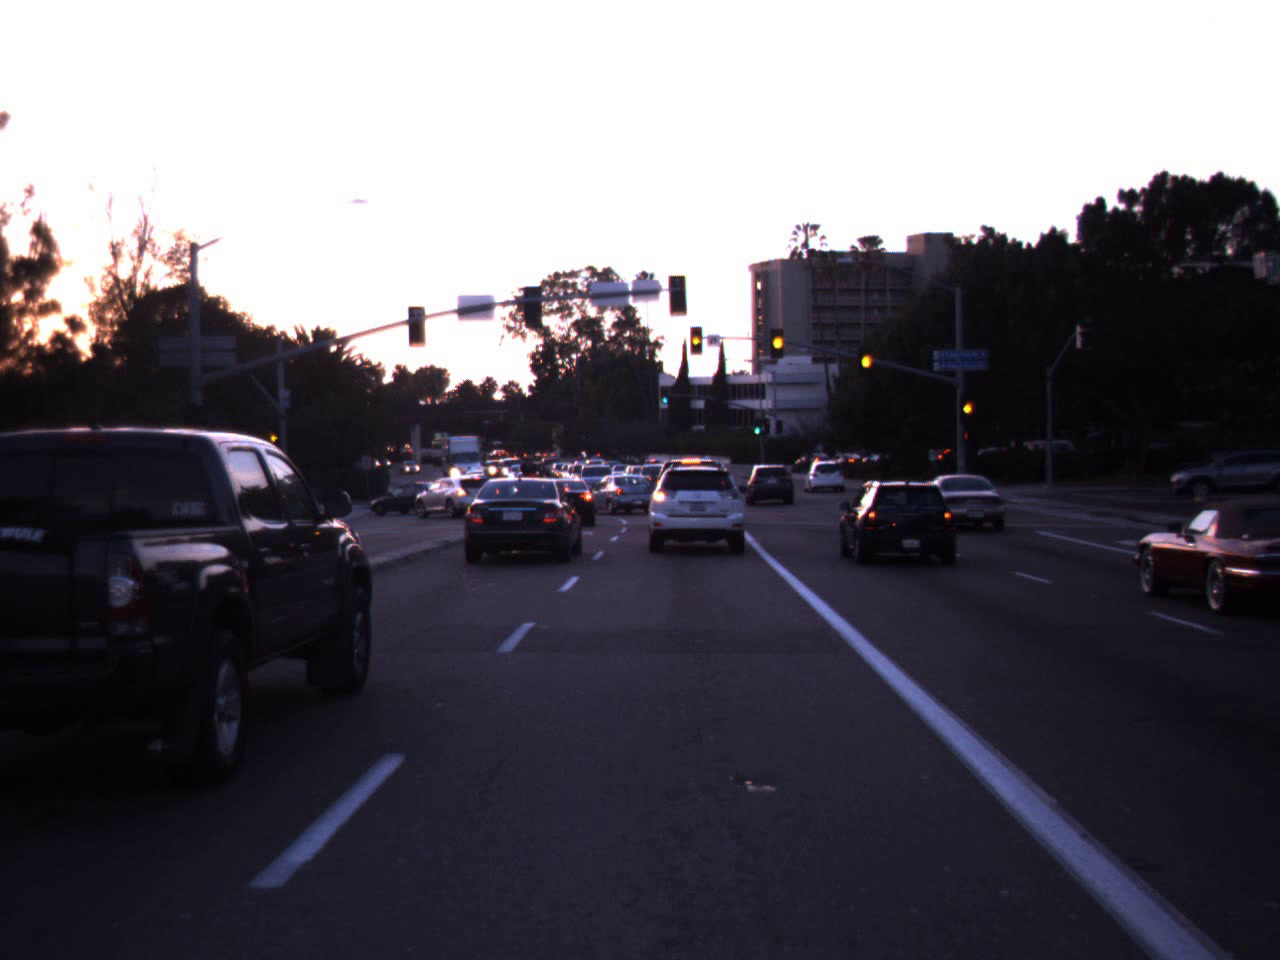go: (751, 411, 763, 436), (659, 384, 671, 404)
warning: (765, 315, 792, 364), (857, 334, 878, 383), (264, 421, 282, 452), (686, 326, 707, 353), (958, 394, 976, 421)
